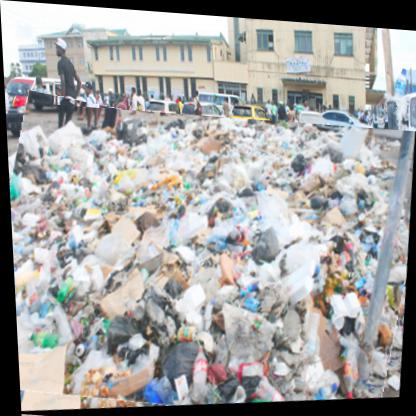Garbage: (5, 102, 416, 416)
